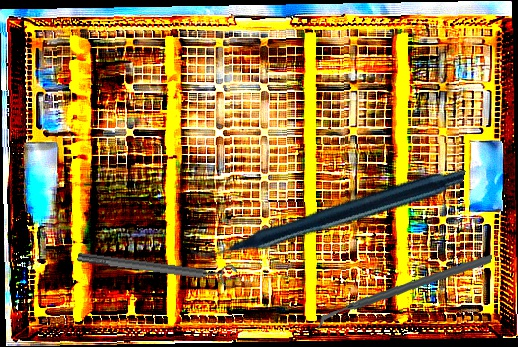Chopper: (317, 242, 492, 342)
Fixation Ring: (75, 242, 239, 292)
Handpiece: (190, 94, 466, 330)
